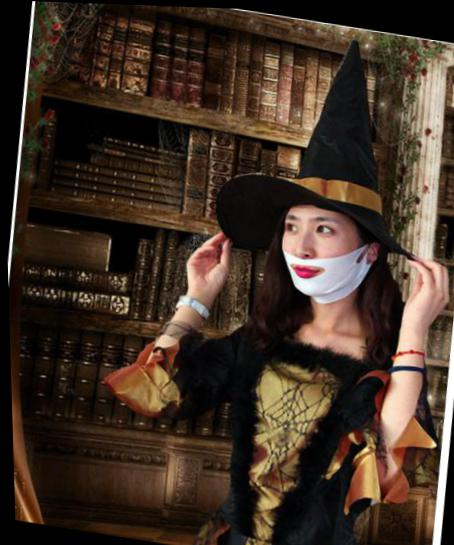WRONG: (272, 205, 362, 296)
